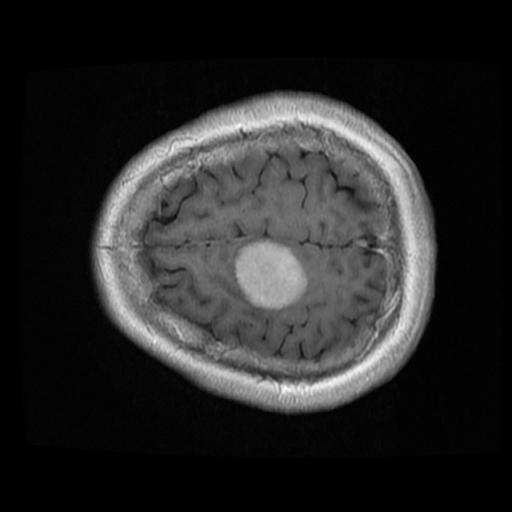meningioma: (233, 241, 306, 309)
